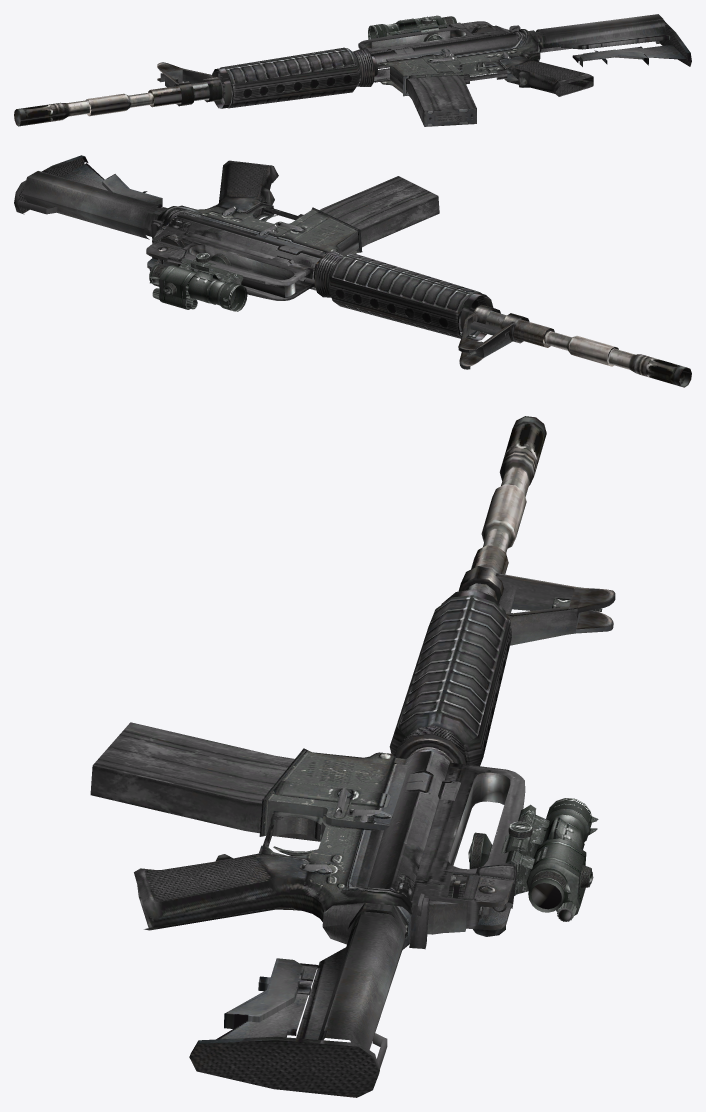
3 renders of one model, top to bottom at view 1: azimuth 30°, elevation 25°; view 2: azimuth 150°, elevation 25°; view 3: azimuth 270°, elevation 25°, orthographic. The views are drawn at different scales.
Parts seen in each view (by area): view 1: _cr15_1st; view 2: _cr15_1st; view 3: _cr15_1st.
Boxes of the visible parts, x1=… form: _cr15_1st: x1=14, y1=14, x2=691, y2=126; _cr15_1st: x1=14, y1=155, x2=691, y2=387; _cr15_1st: x1=90, y1=416, x2=615, y2=1097.
Bounding box in the file's own units: 0.9972 × 0.084 × 0.3762.
Materials: 3 (3 with a texture image).
